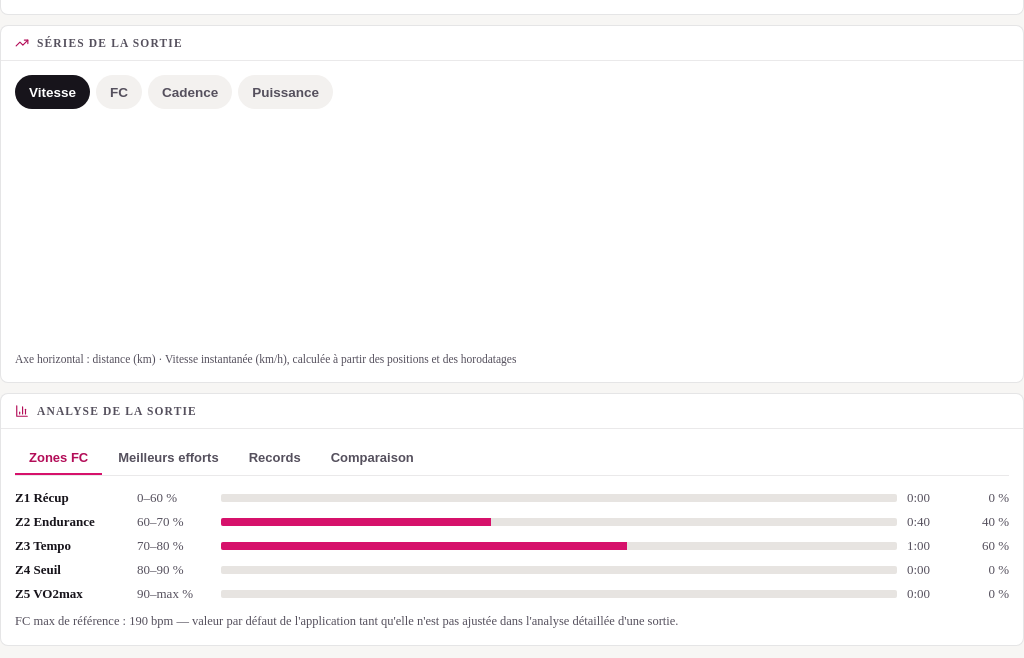
it: CockpitDashboard — analyse › comparaison : explique l'absence de sortie comparable
This screenshot has width=1024, height=658.
(page scrolled)
Click the tab "Comparaison": {"x": 372, "y": 458} [317,442,428,475]
(page scrolled)
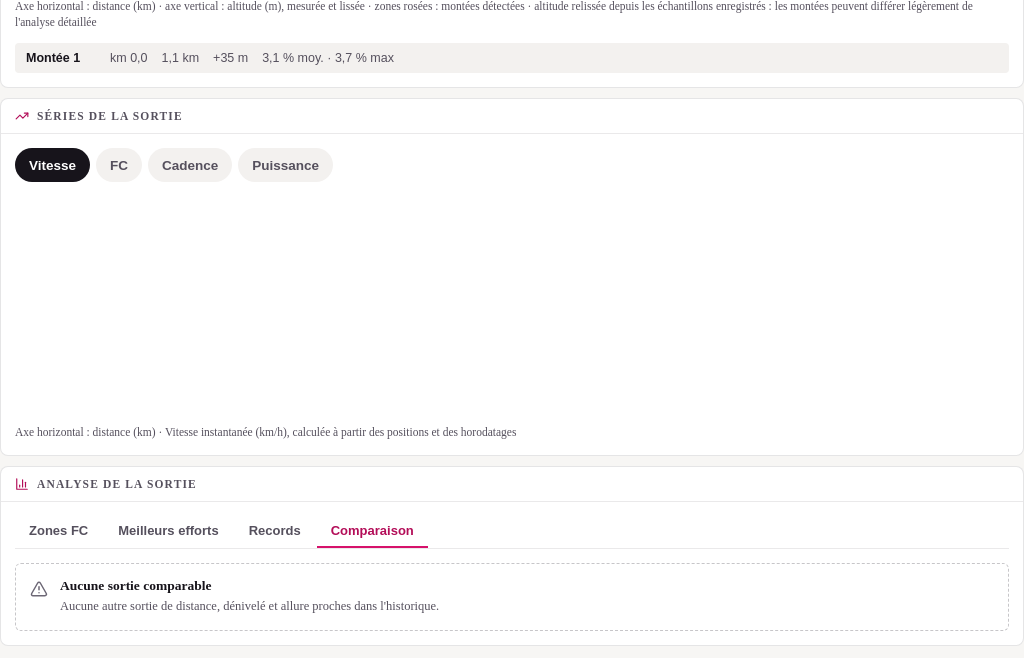
Check: the text "Aucune sortie comparable" is shown, box [60,578,212,593]
